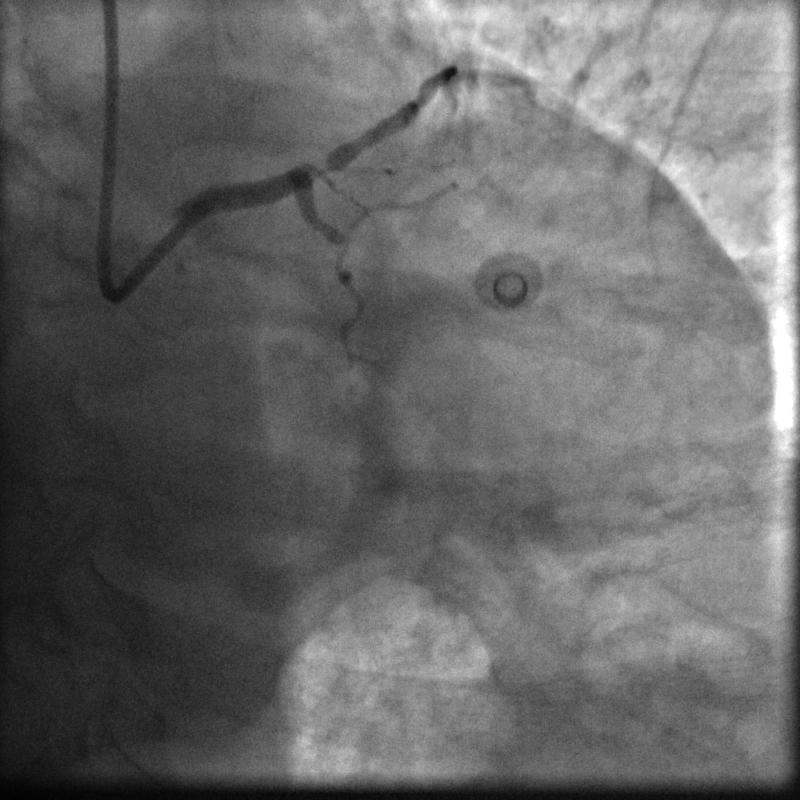Stenosis: (300, 152, 343, 180)
